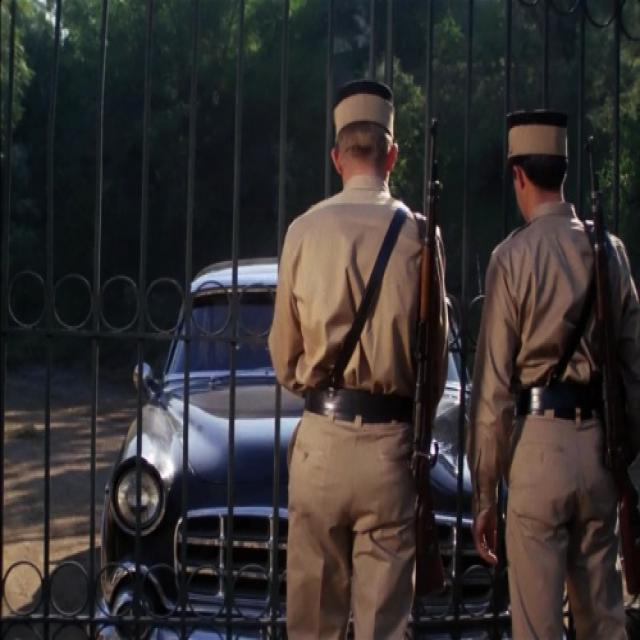rifle: (578, 129, 640, 600), (407, 115, 453, 600)
